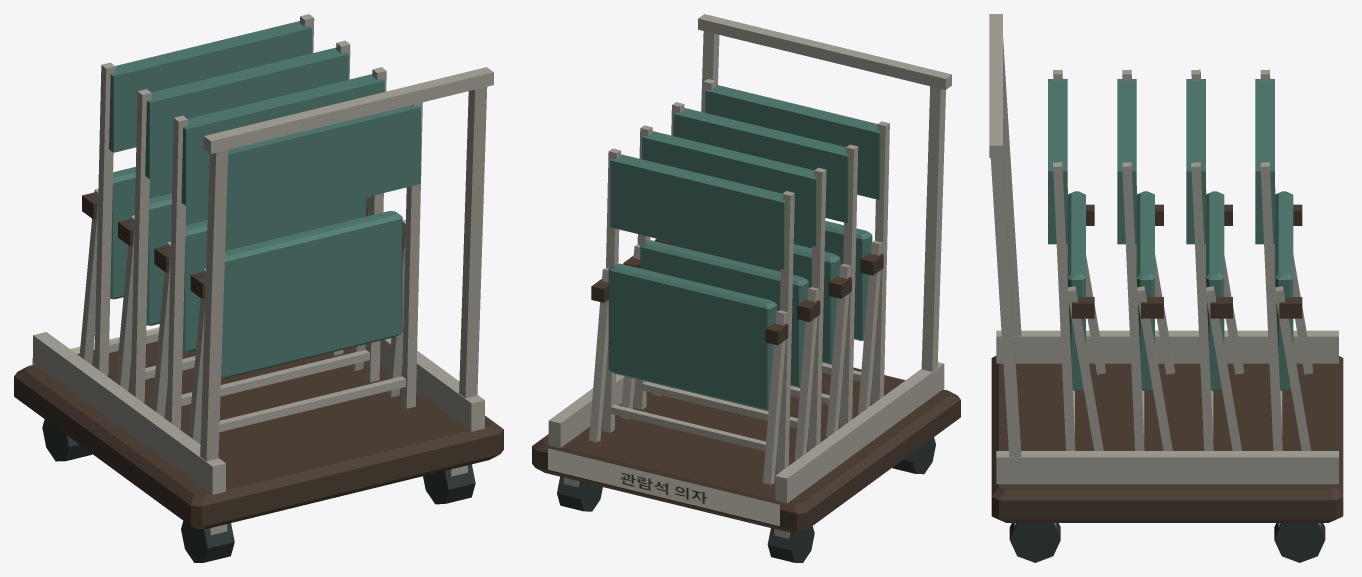
The model's file is P06_Folding_Chair_Cart.fbx.
The picture shows the model from 3 angles, left to right: view 1: azimuth 30°, elevation 25°; view 2: azimuth 150°, elevation 25°; view 3: azimuth 270°, elevation 25°; orthographic projection. The views are drawn at different scales.
Parts seen in each view (by area): view 1: Cart, Folded_Chair_01, Folded_Chair_02, Folded_Chair_03, Folded_Chair_04; view 2: Cart, Folded_Chair_04, Folded_Chair_03, Folded_Chair_02, Folded_Chair_01, Front_Label; view 3: Cart, Folded_Chair_04, Folded_Chair_03, Folded_Chair_02, Folded_Chair_01.
Boxes of the visible parts, x1,y1,x2,y2 form: Cart: (14,67,503,562); Folded_Chair_01: (188,102,422,443); Folded_Chair_02: (152,67,386,428); Folded_Chair_03: (115,40,350,402); Folded_Chair_04: (79,14,314,375); Cart: (532,14,960,562); Folded_Chair_04: (589,148,794,484); Folded_Chair_03: (620,125,826,460); Folded_Chair_02: (652,102,858,436); Folded_Chair_01: (703,79,889,413); Front_Label: (548,448,779,526); Cart: (989,14,1343,562); Folded_Chair_04: (1255,69,1312,450); Folded_Chair_03: (1186,69,1243,450); Folded_Chair_02: (1117,69,1174,450); Folded_Chair_01: (1048,69,1105,450).
Bounding box in the file's own units: 1.3 × 1.75 × 1.35.
5 materials, 1 textured.
